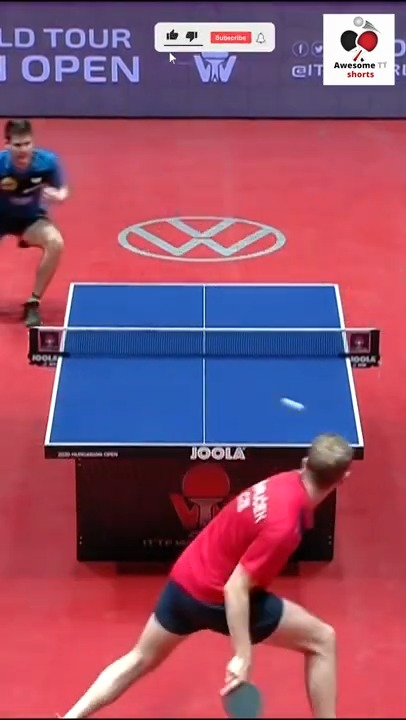Ball: (282, 396, 302, 416)
